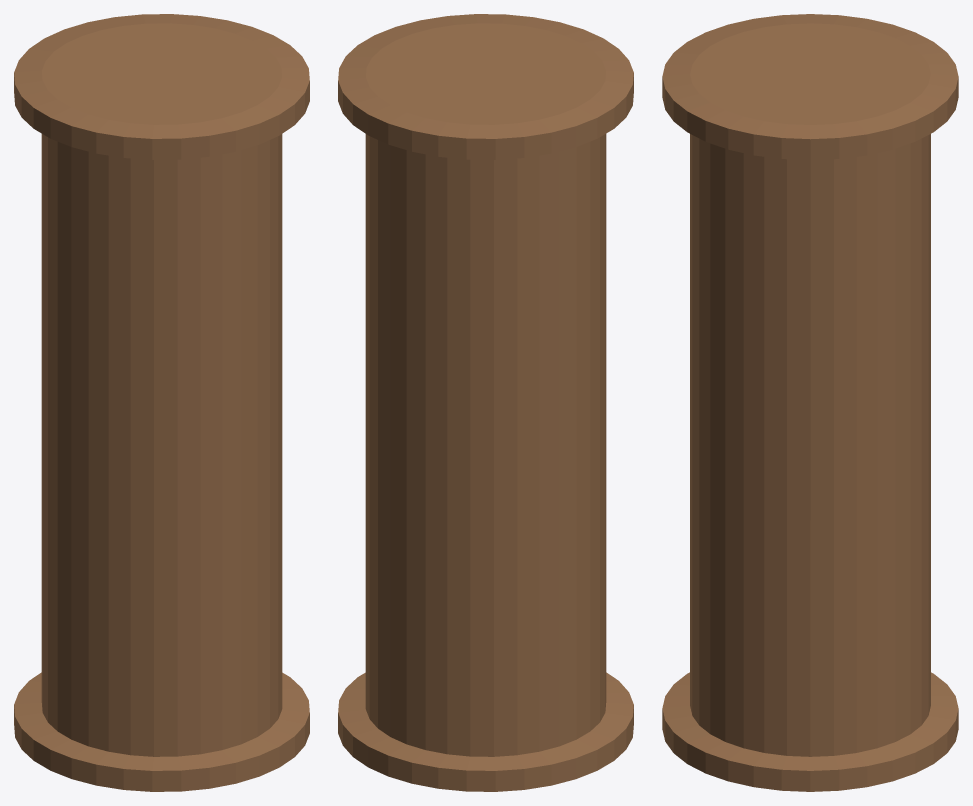
File: rohr_gerade 1.fbx
3 views of the same model, side by side, from view 1: azimuth 30°, elevation 25°; view 2: azimuth 150°, elevation 25°; view 3: azimuth 270°, elevation 25° (orthographic).
Parts seen in each view (by area): view 1: Zylinder.003; view 2: Zylinder.003; view 3: Zylinder.003.
Boxes of the visible parts, x1,y1,x2,y2 form: Zylinder.003: (14, 14, 309, 791); Zylinder.003: (338, 14, 633, 791); Zylinder.003: (662, 14, 958, 791).
Bounding box in the file's own units: 246 × 600 × 246.
